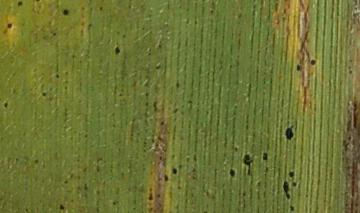tarspot: (281, 125, 298, 142), (242, 153, 254, 177), (279, 180, 292, 201), (60, 7, 72, 19), (146, 186, 155, 202), (112, 44, 123, 57), (227, 168, 239, 179), (286, 168, 297, 180), (261, 150, 270, 163), (294, 61, 303, 73), (4, 21, 15, 30), (53, 72, 64, 81), (1, 99, 9, 111), (40, 90, 49, 100), (57, 202, 67, 211), (308, 58, 318, 67), (287, 204, 298, 212), (163, 173, 170, 183), (171, 166, 178, 175), (14, 1, 24, 7), (158, 121, 167, 127), (291, 182, 298, 189), (155, 194, 163, 199)
